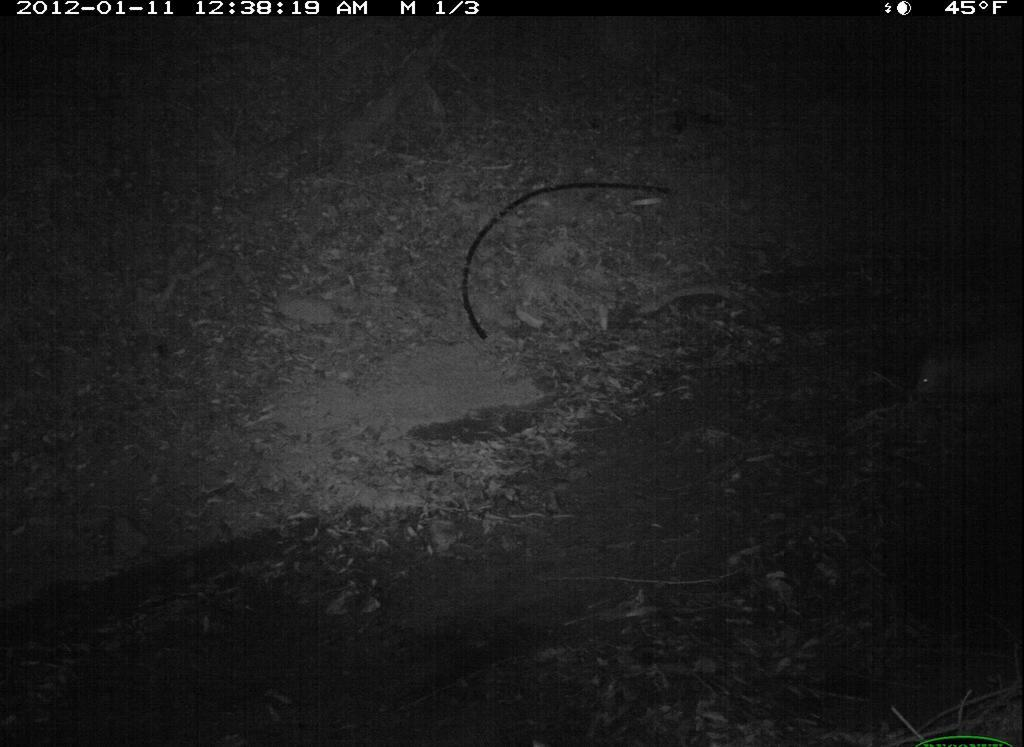opossum: (908, 317, 1018, 413)
